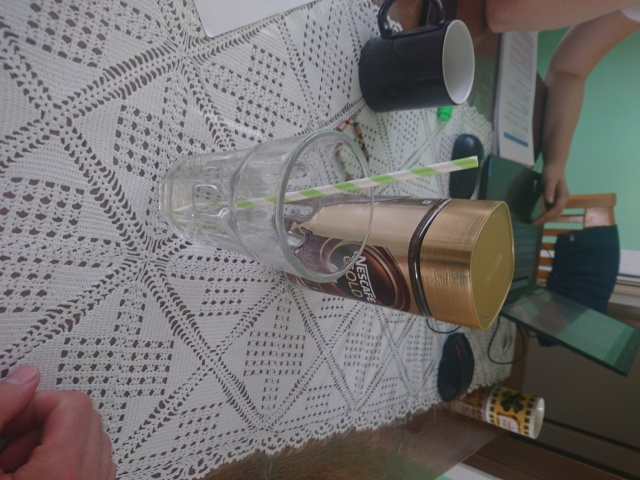Nescafe Gold 225g: (275, 185, 518, 334)
